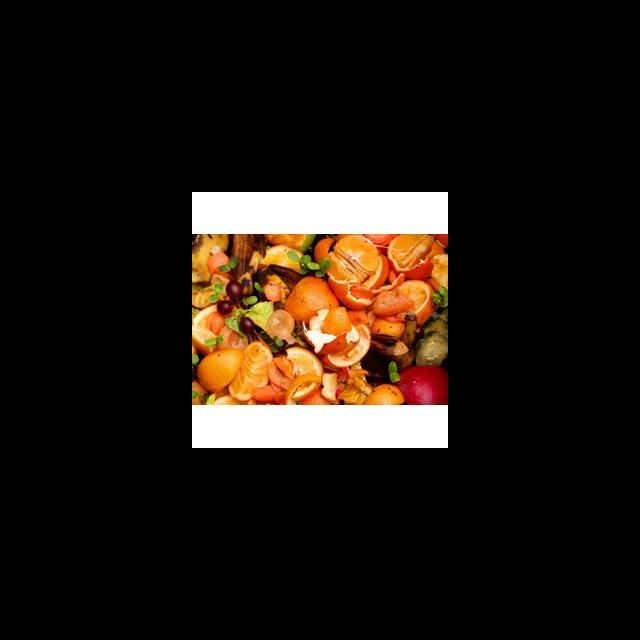food_waste: (193, 235, 448, 406)
